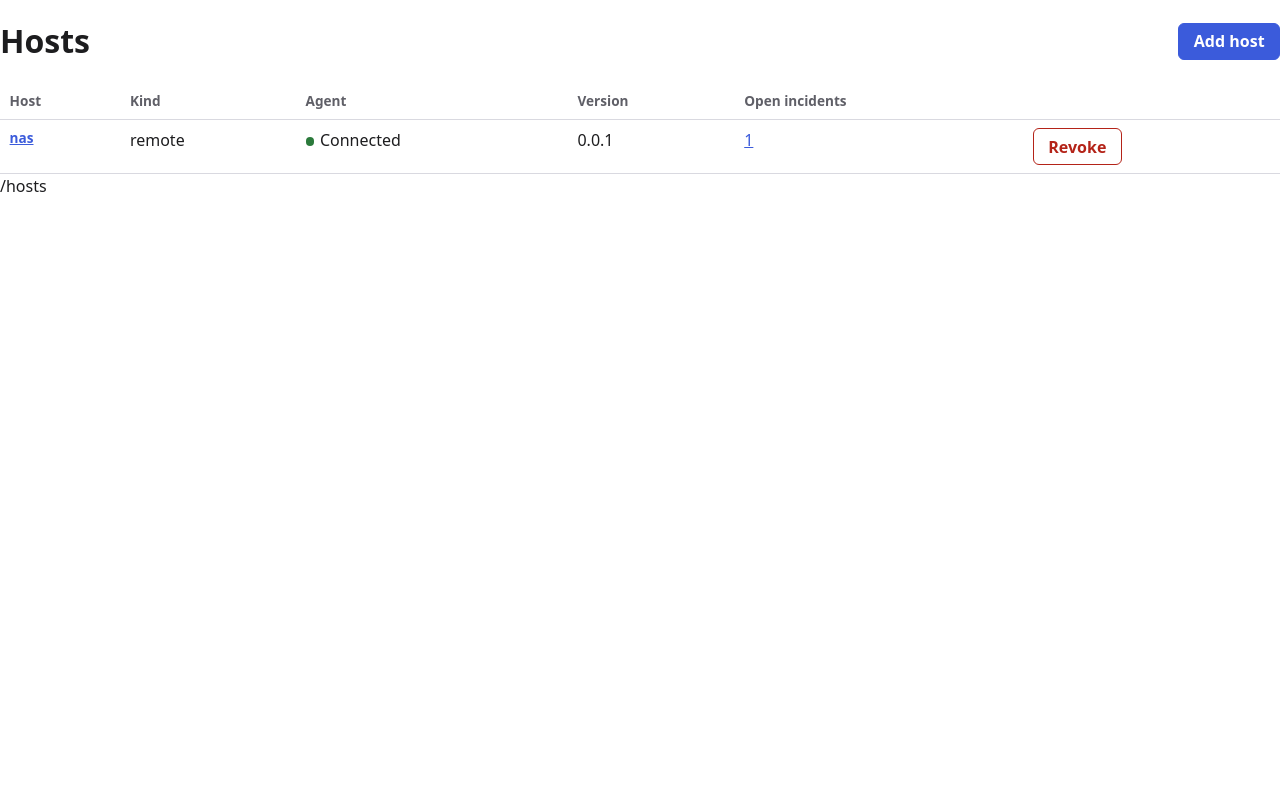
Test: enrollment_invite_expires
Click the button "Add host" at (1229,41), box x1=1178 y1=23 x2=1279 y2=60
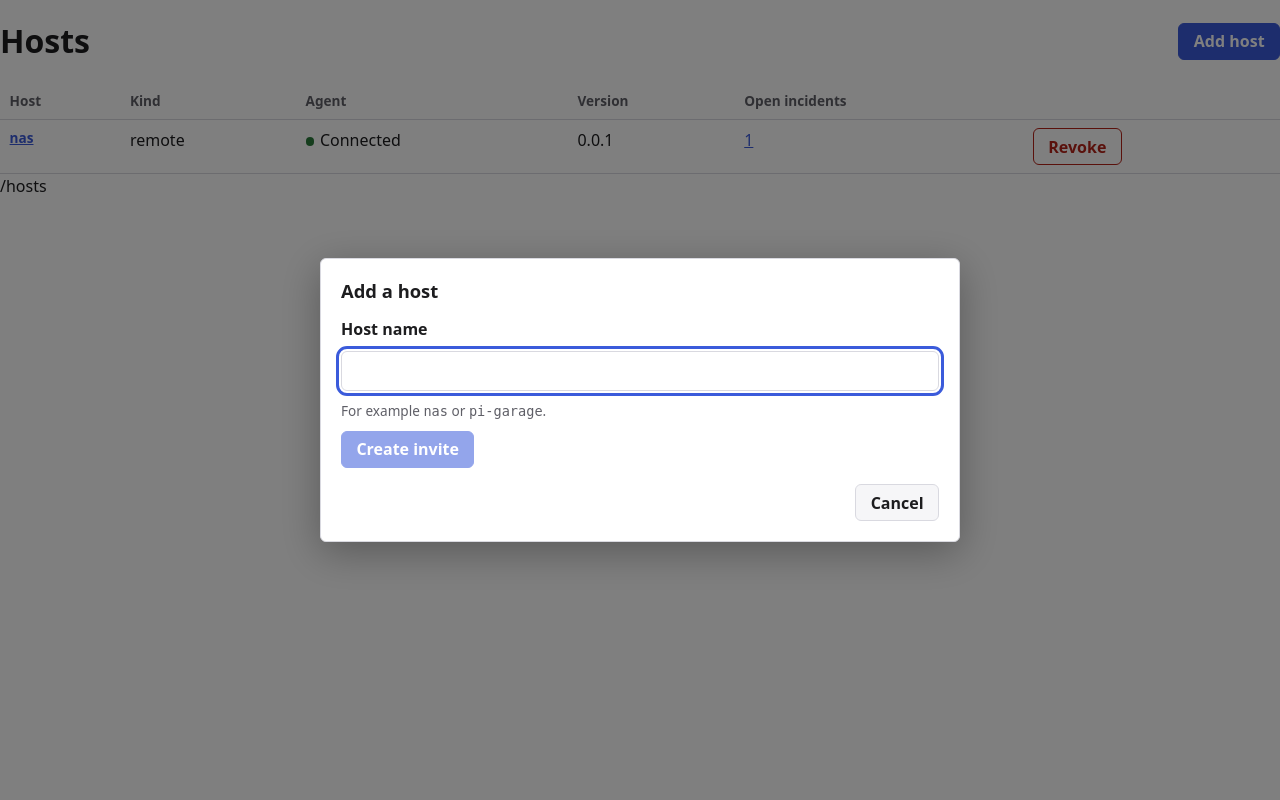
Type "pi" into the field labelled "Host name" at (640,371), box x1=341 y1=351 x2=939 y2=391
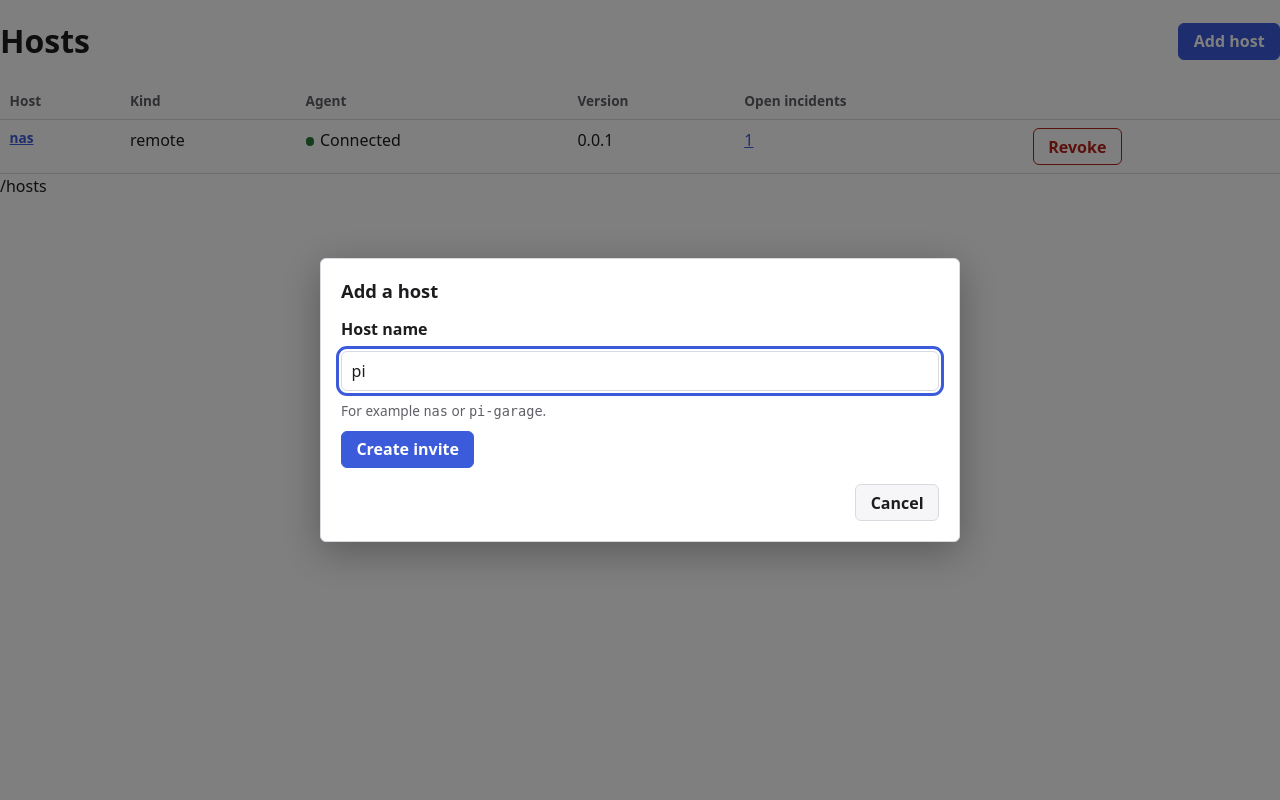
Click the button "Create invite" at (408,449), box x1=341 y1=431 x2=474 y2=468
Wait 6000 ms
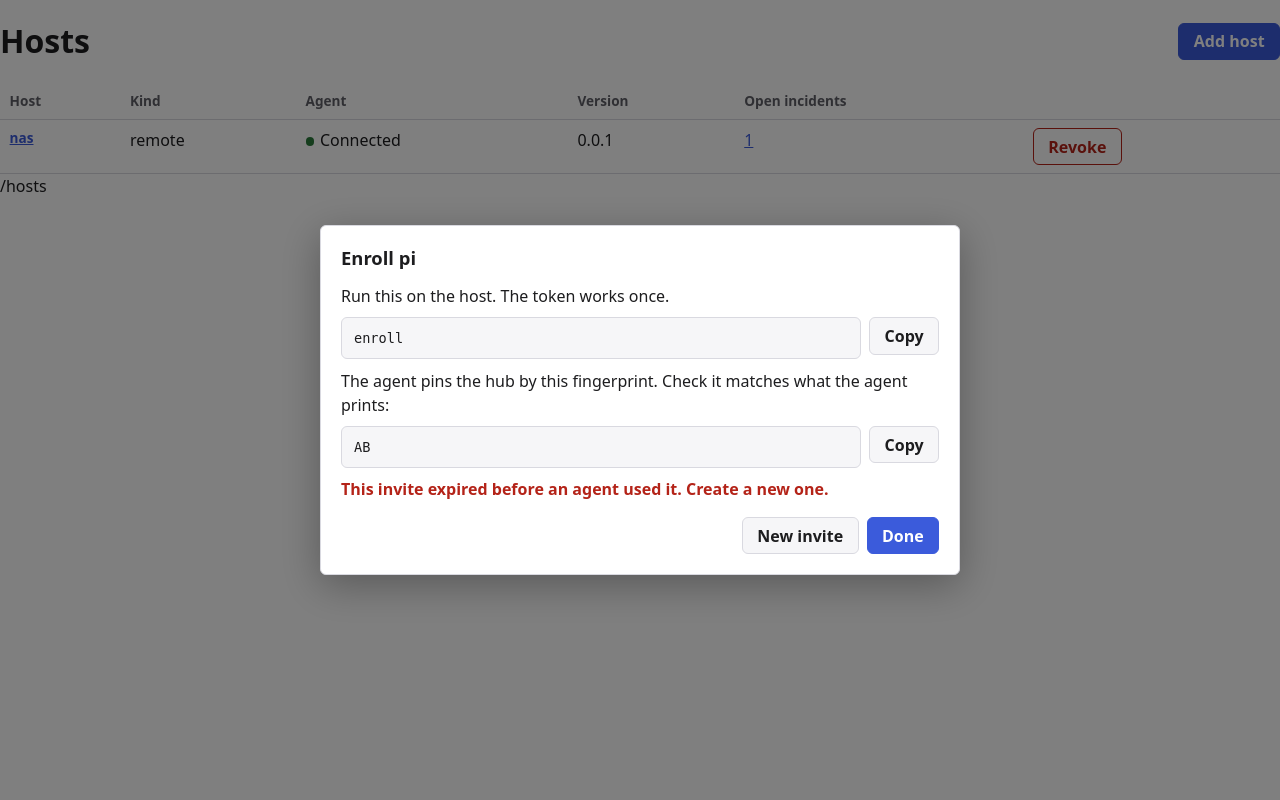
Result: the message shows "This invite expired" at x1=341 y1=478 x2=829 y2=500
Result: the button "New invite" is enabled at x1=742 y1=517 x2=858 y2=554
